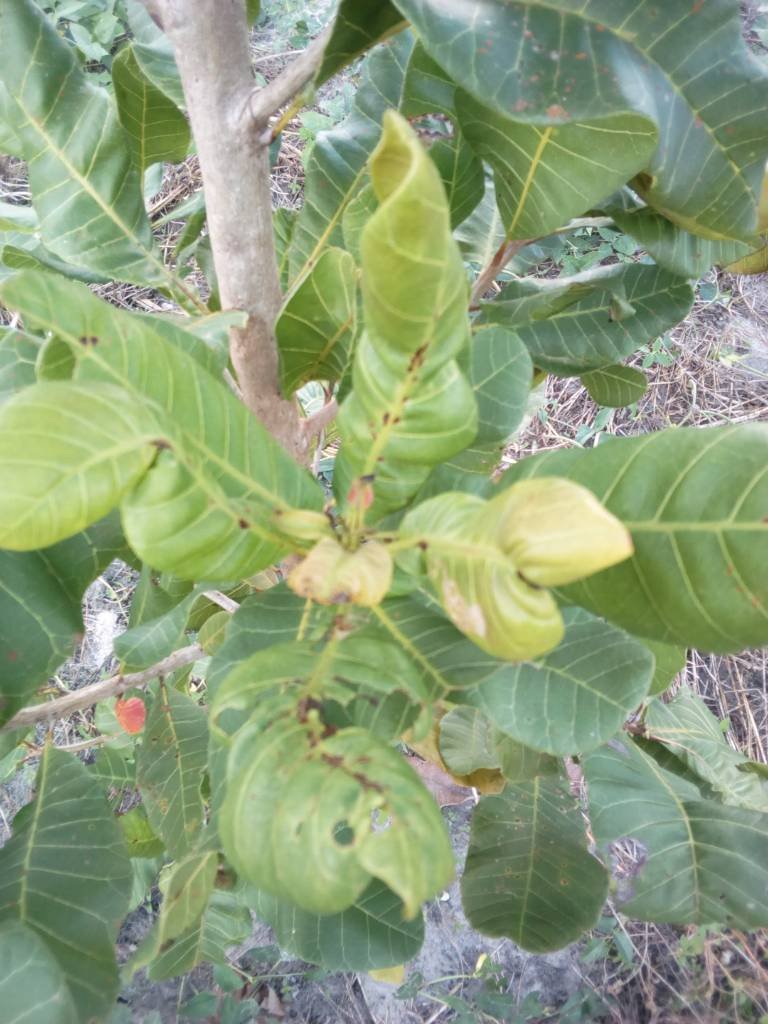Helopeltis anacardii: (211, 627, 455, 910), (1, 386, 294, 575), (346, 117, 477, 475), (404, 486, 629, 650)
